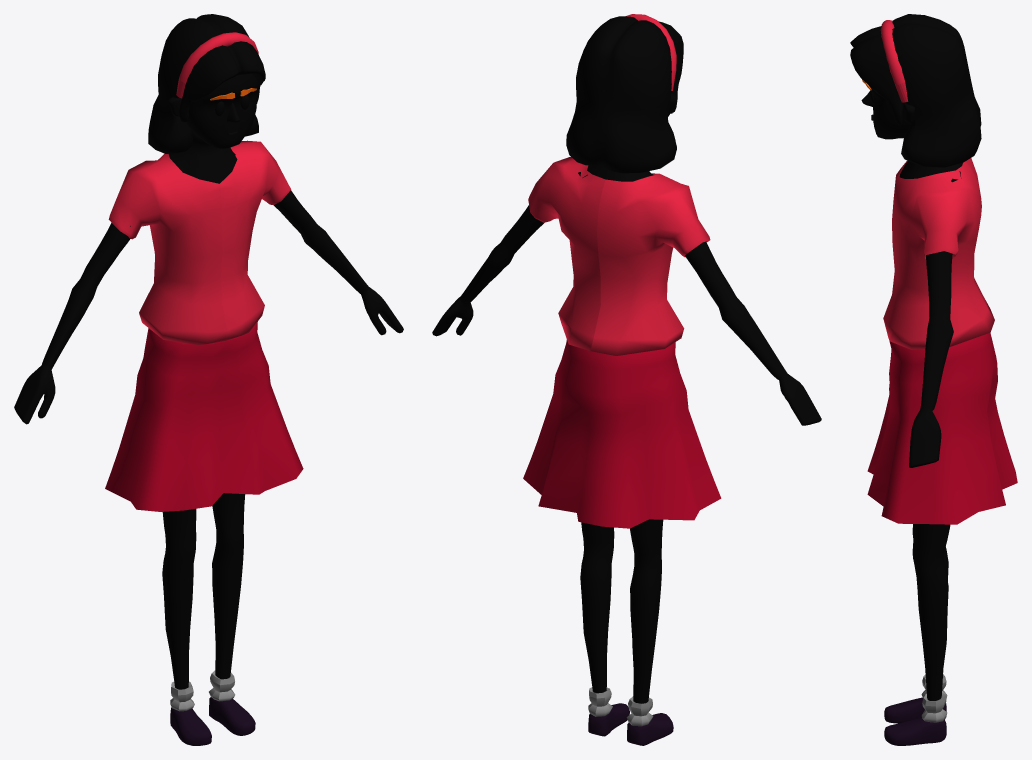
File: girl.obj
The picture shows the model from 3 angles, left to right: view 1: azimuth 30°, elevation 25°; view 2: azimuth 150°, elevation 25°; view 3: azimuth 270°, elevation 25°; orthographic projection.
Visible parts, largest first — view 1: Girl:GirlSkirt Girl:GirlGRP, Girl:GirlGRP Girl:GirlBody1, Girl:GirlGRP Girl:GirlTshirt, Girl:GirlHair, Girl:GirlGRP Girl:Lshoe, Girl:GirlGRP Girl:Rshoe, Girl:Crown; view 2: Girl:GirlSkirt Girl:GirlGRP, Girl:GirlGRP Girl:GirlTshirt, Girl:GirlGRP Girl:GirlBody1, Girl:GirlHair, Girl:GirlGRP Girl:Rshoe, Girl:GirlGRP Girl:Lshoe; view 3: Girl:GirlSkirt Girl:GirlGRP, Girl:GirlGRP Girl:GirlTshirt, Girl:GirlHair, Girl:GirlGRP Girl:GirlBody1, Girl:GirlGRP Girl:Lshoe, Girl:Crown, Girl:GirlGRP Girl:Rshoe, Girl:GirlGRP Girl:socks_Left, Girl:NoseEars.
Boxes of the visible parts, x1,y1,x2,y2 form: Girl:GirlSkirt Girl:GirlGRP: (105,321,303,511); Girl:GirlGRP Girl:GirlBody1: (14,73,403,689); Girl:GirlGRP Girl:GirlTshirt: (108,140,291,344); Girl:GirlHair: (148,14,265,153); Girl:GirlGRP Girl:Lshoe: (209,697,255,735); Girl:GirlGRP Girl:Rshoe: (170,707,211,745); Girl:Crown: (176,32,258,98); Girl:GirlSkirt Girl:GirlGRP: (523,340,721,528); Girl:GirlGRP Girl:GirlTshirt: (528,157,710,355); Girl:GirlGRP Girl:GirlBody1: (432,88,821,703); Girl:GirlHair: (566,16,683,173); Girl:GirlGRP Girl:Rshoe: (627,713,673,745); Girl:GirlGRP Girl:Lshoe: (588,703,629,736); Girl:GirlSkirt Girl:GirlGRP: (867,332,1017,524); Girl:GirlGRP Girl:GirlTshirt: (883,158,994,349); Girl:GirlHair: (850,14,981,167); Girl:GirlGRP Girl:GirlBody1: (869,68,968,700); Girl:GirlGRP Girl:Lshoe: (884,717,946,745); Girl:Crown: (880,20,908,102); Girl:GirlGRP Girl:Rshoe: (884,697,946,723); Girl:GirlGRP Girl:socks_Left: (921,693,947,722); Girl:NoseEars: (861,90,914,123).
Bounding box in the file's own units: 20.27 × 36.16 × 7.74.
